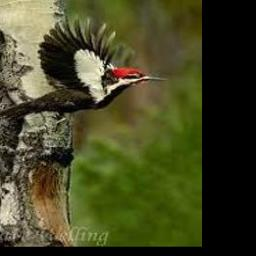Woodpecker: (0, 16, 167, 123)
